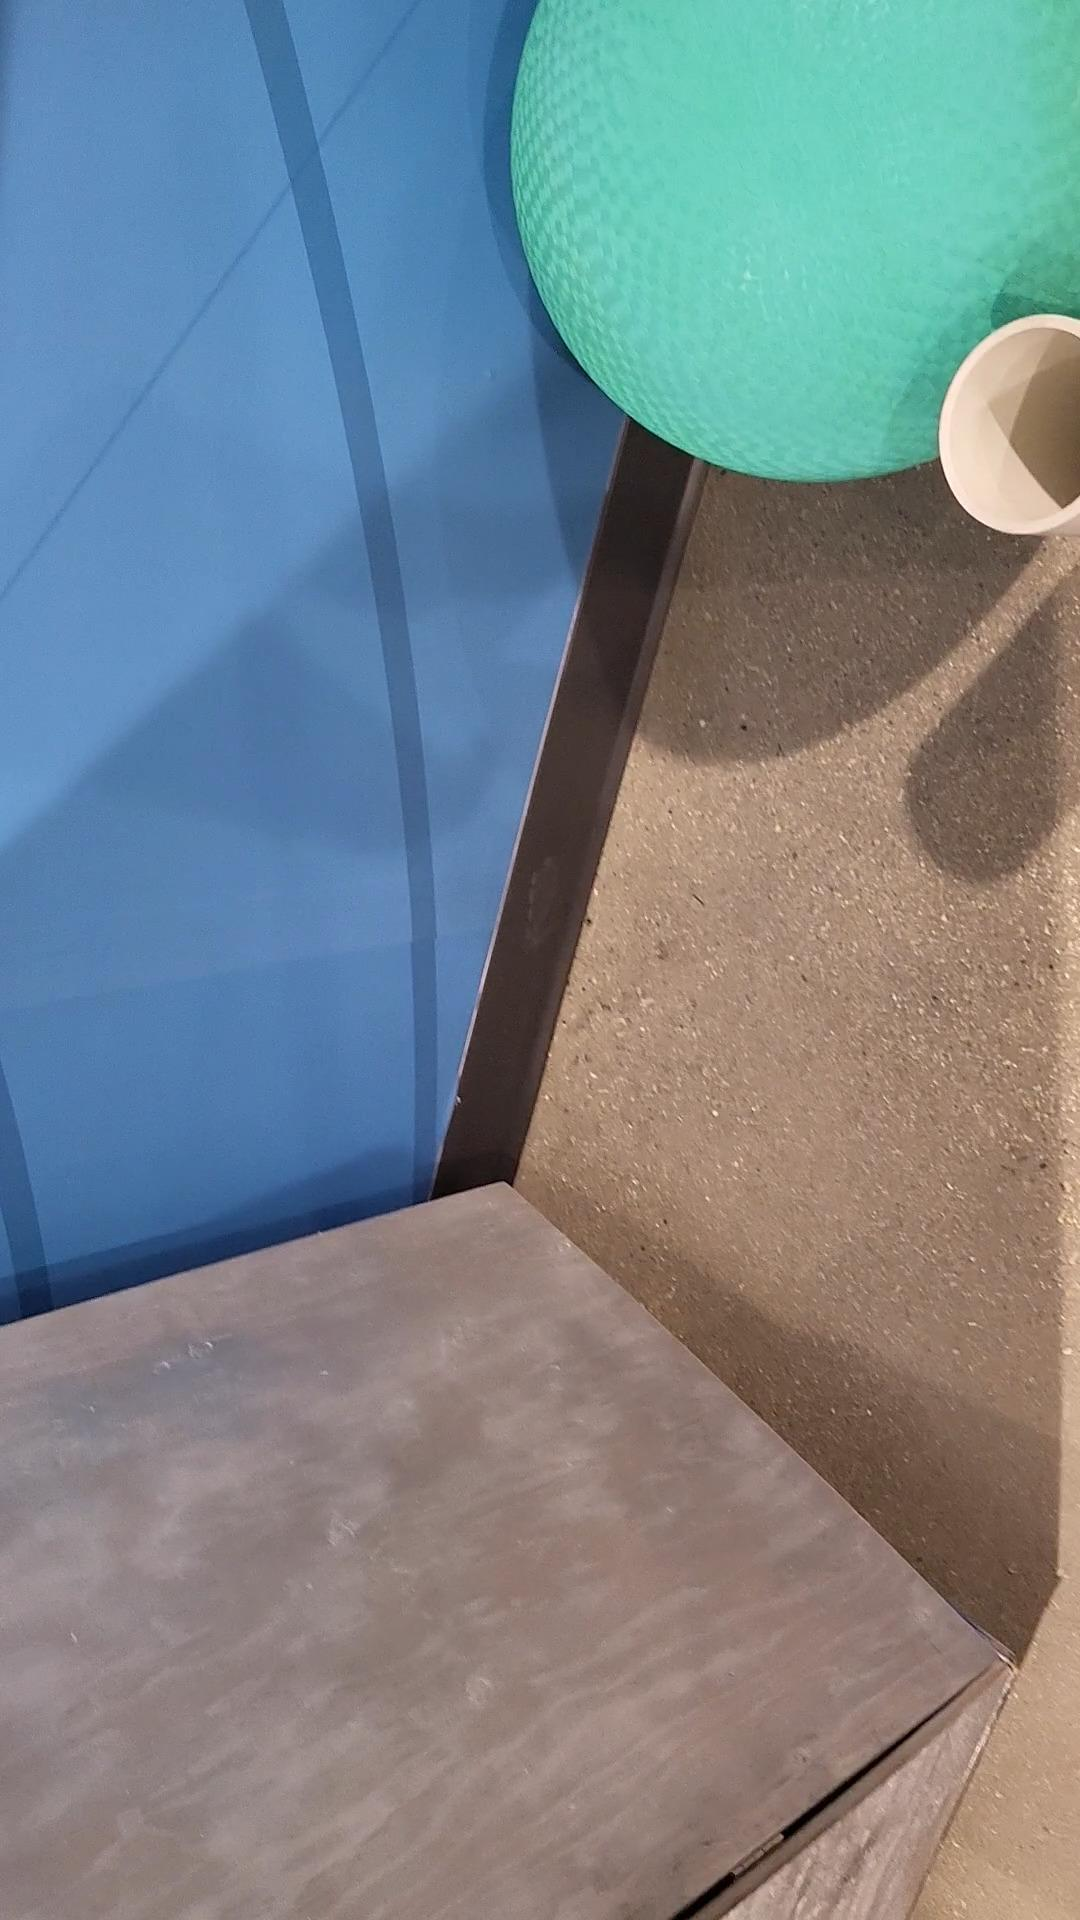algae: (510, 0, 1080, 480)
coral: (940, 313, 1080, 535)
